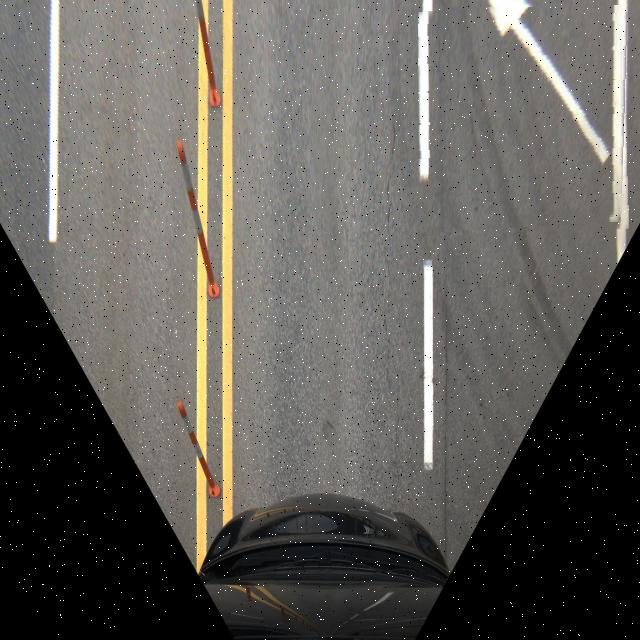chang_lane_left: (418, 7, 628, 234)
